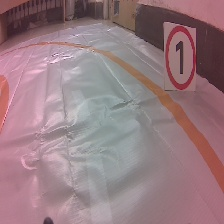limit: (160, 19, 199, 93)
